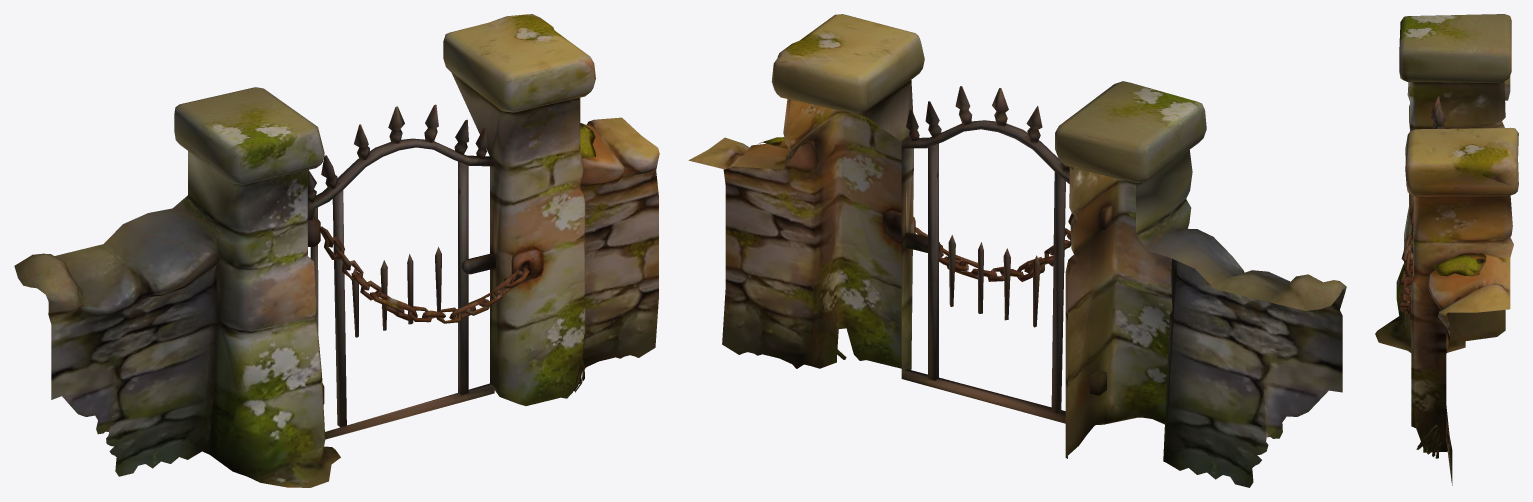
The model's file is wyn_quest_crypt_outer_wicket.glb.
3 views of the same model, side by side, from view 1: azimuth 30°, elevation 25°; view 2: azimuth 150°, elevation 25°; view 3: azimuth 270°, elevation 25° (orthographic). The views are drawn at different scales.
Visible parts, largest first — view 1: tripo_node_9dfc9d53-c44a-4b21-8806-52308f299f16; view 2: tripo_node_9dfc9d53-c44a-4b21-8806-52308f299f16; view 3: tripo_node_9dfc9d53-c44a-4b21-8806-52308f299f16.
Part boxes in pixels (left/top/right/bottom): tripo_node_9dfc9d53-c44a-4b21-8806-52308f299f16: left=14, top=14, right=659, bottom=487; tripo_node_9dfc9d53-c44a-4b21-8806-52308f299f16: left=688, top=14, right=1346, bottom=487; tripo_node_9dfc9d53-c44a-4b21-8806-52308f299f16: left=1375, top=14, right=1518, bottom=485.
Size of the model in its own units: 4.09 by 2.2 by 0.9517.
Materials: 1 (1 with a texture image).
